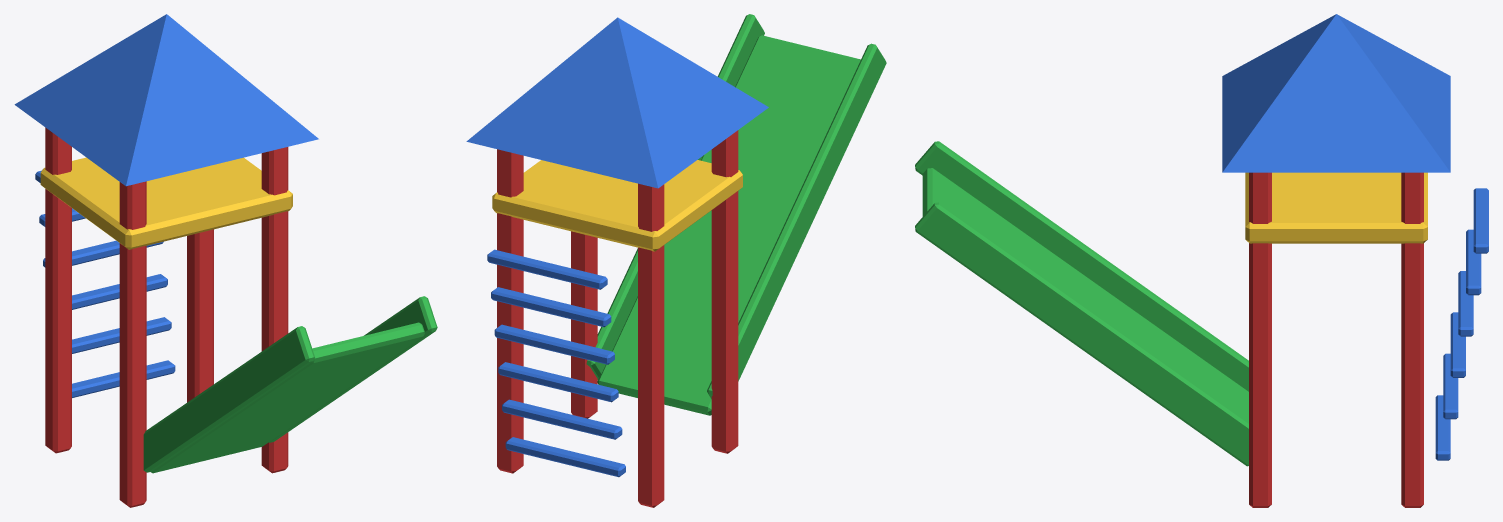
File: PlaygroundSlide.fbx
The picture shows the model from 3 angles, left to right: view 1: azimuth 30°, elevation 25°; view 2: azimuth 150°, elevation 25°; view 3: azimuth 270°, elevation 25°; orthographic projection. The views are drawn at different scales.
Parts seen in each view (by area): view 1: PlaygroundSlide; view 2: PlaygroundSlide; view 3: PlaygroundSlide.
Part boxes in pixels (box(x1,y1,x2,y2)): PlaygroundSlide: box(14, 14, 437, 507); PlaygroundSlide: box(466, 14, 886, 507); PlaygroundSlide: box(915, 14, 1488, 507).
Size of the model in its own units: 3 by 6.6 by 7.54.
Materials: 1 (1 with a texture image).
